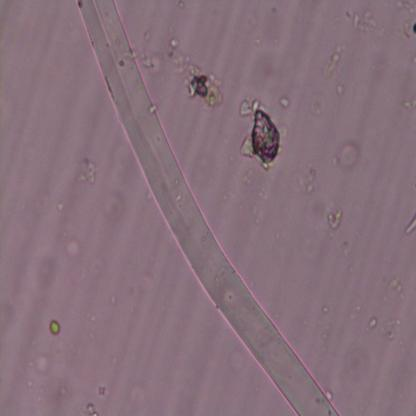Background material: (170, 32, 230, 112), (237, 94, 290, 170), (141, 32, 164, 76), (366, 313, 402, 341), (352, 7, 382, 37), (323, 44, 345, 78), (297, 164, 317, 197), (385, 272, 406, 302), (339, 145, 363, 170), (77, 160, 98, 186), (324, 204, 344, 231), (402, 206, 416, 237), (400, 12, 416, 39), (64, 238, 82, 262), (50, 320, 61, 336), (84, 404, 100, 414), (98, 383, 108, 397)
Microfibre: (76, 0, 339, 416)
